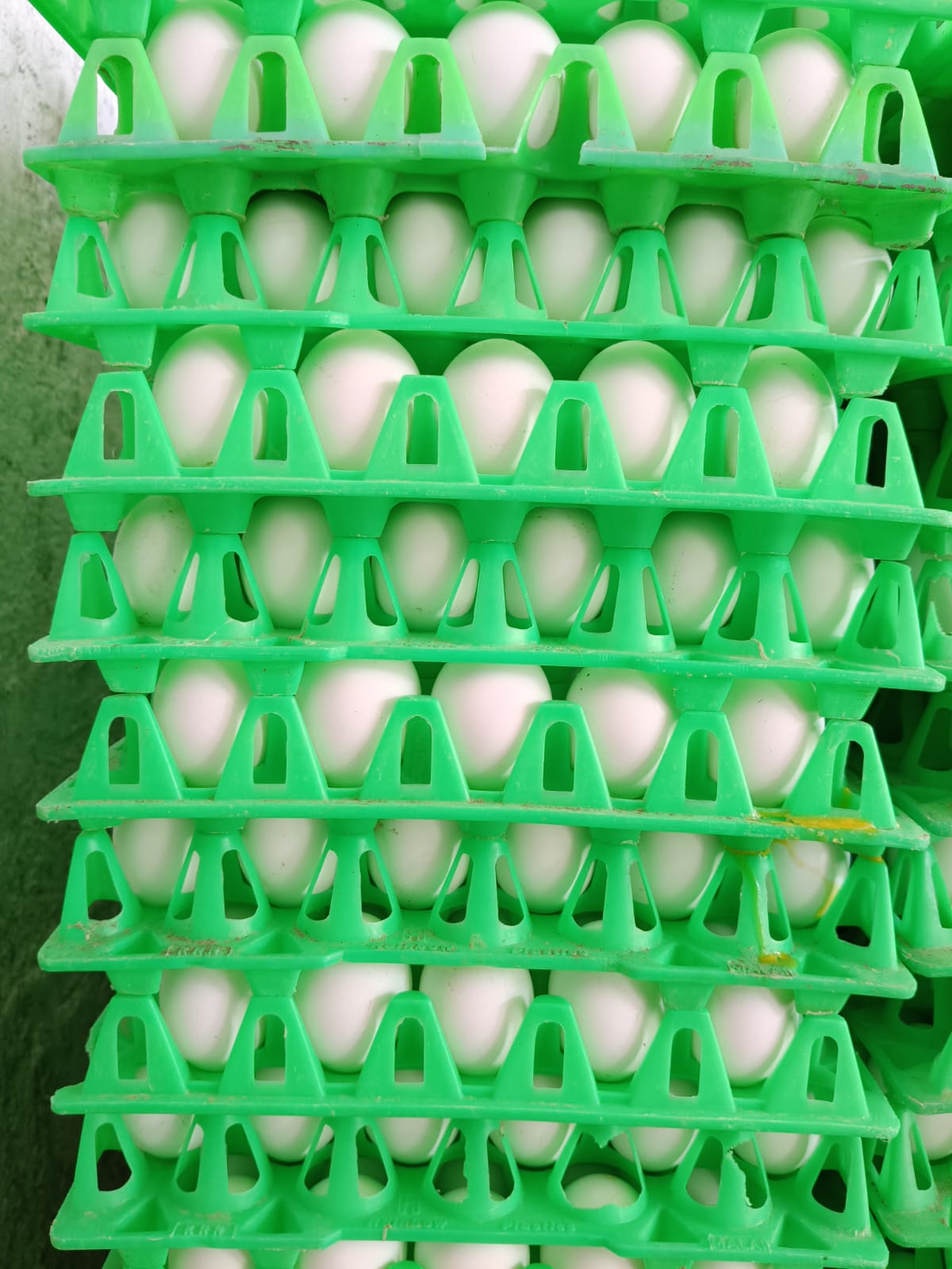egg_tray: (138, 294, 878, 497), (85, 164, 952, 336), (66, 614, 918, 787), (56, 0, 952, 150), (103, 471, 872, 643), (135, 767, 821, 952), (85, 1079, 825, 1248), (77, 907, 789, 1073)
